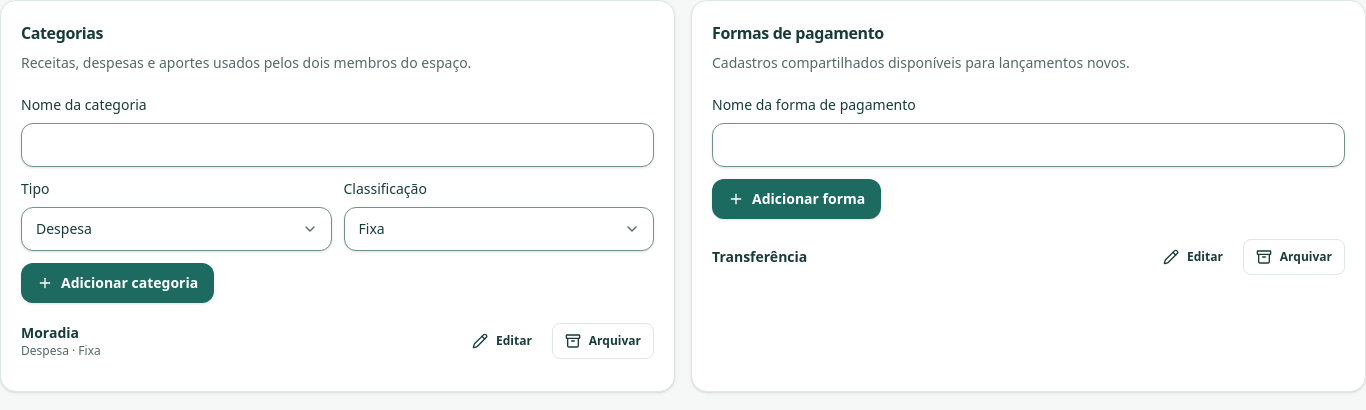
Scenario: shared catalog settings › lets a member create and manage shared payment methods
This screenshot has width=1366, height=410.
In the field labelled "Nome da forma de pagamento": (1028, 145) 712,123 -> 1345,167, type "Pix"
Click the button "Adicionar forma": (797, 199) 712,179 -> 881,219
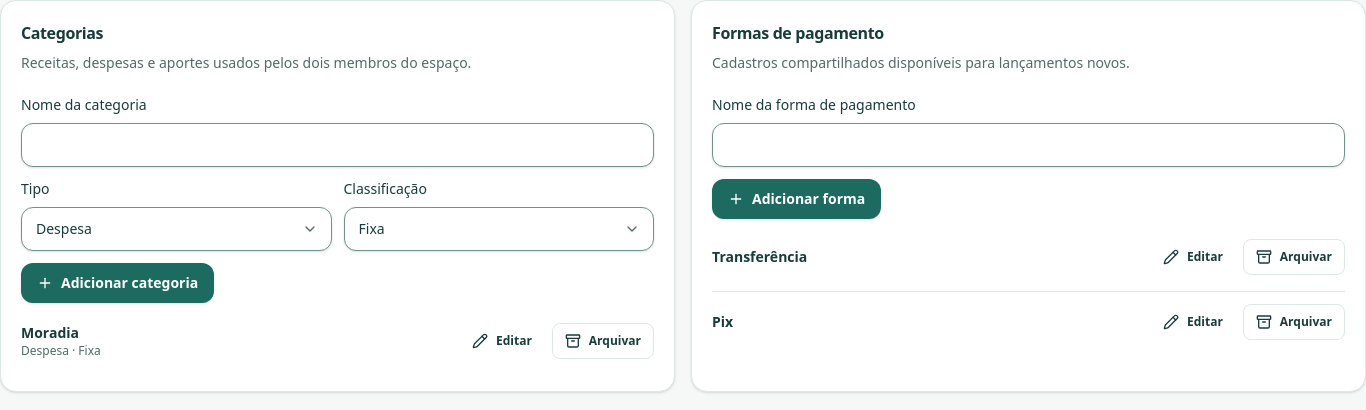
Check: the text "Pix" is shown, box 712,312 -> 733,331
Click the button with aria-label "Editar forma de pagamento Pix": (1193, 322) 1151,304 -> 1235,340
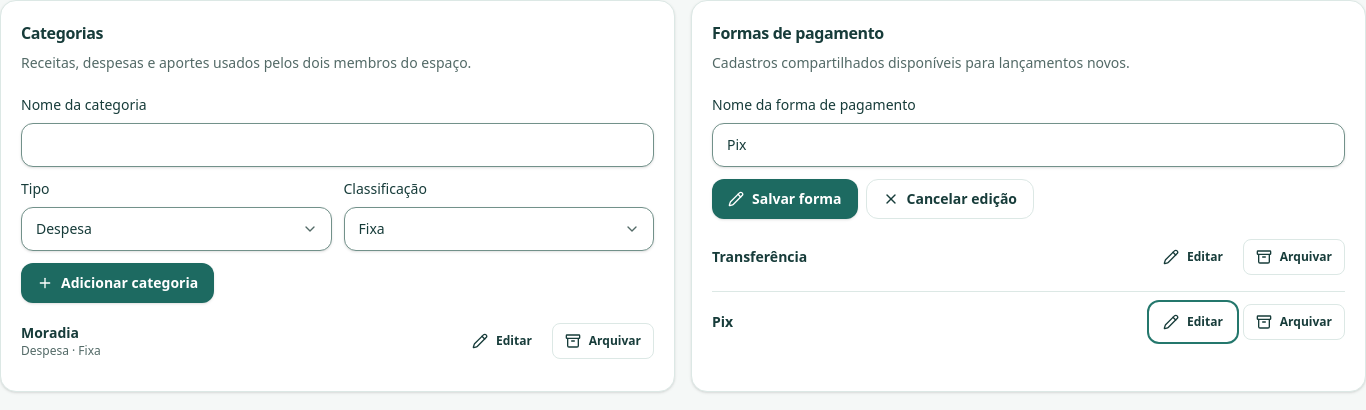
Replace the text in the field labelled "Nome da forma de pagamento" with "Pix instantâneo": (1028, 145) 712,123 -> 1345,167
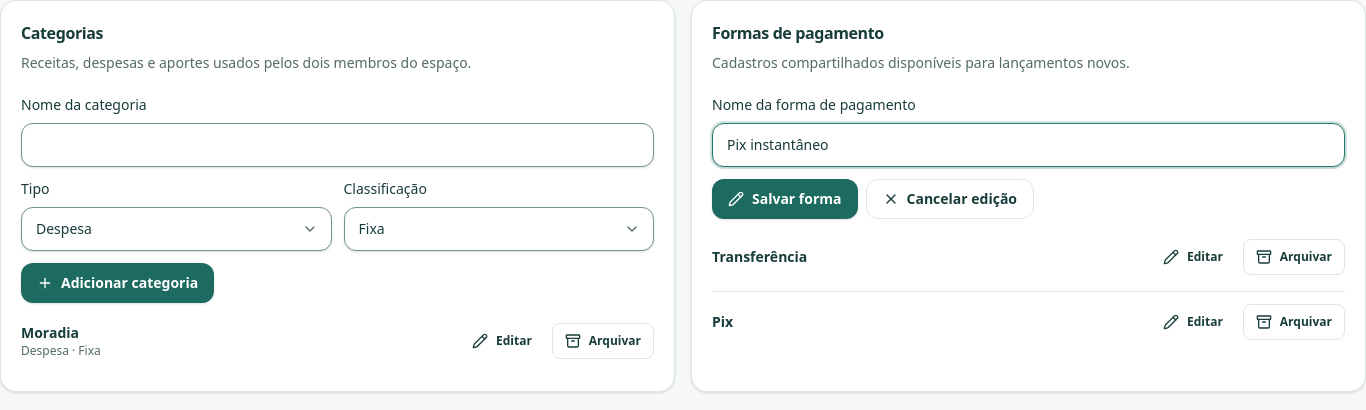
Click the button "Salvar forma": (785, 199) 712,179 -> 858,219
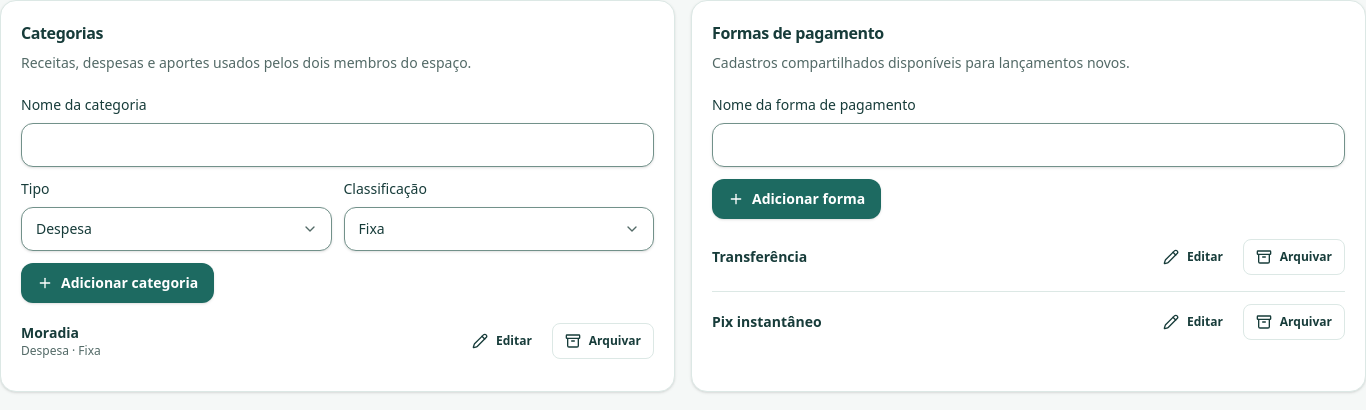
Check: the text "Pix instantâneo" is shown, box 712,312 -> 822,331
Click the button with aria-label "Arquivar forma de pagamento Pix instantâneo": (1294, 322) 1243,304 -> 1345,340
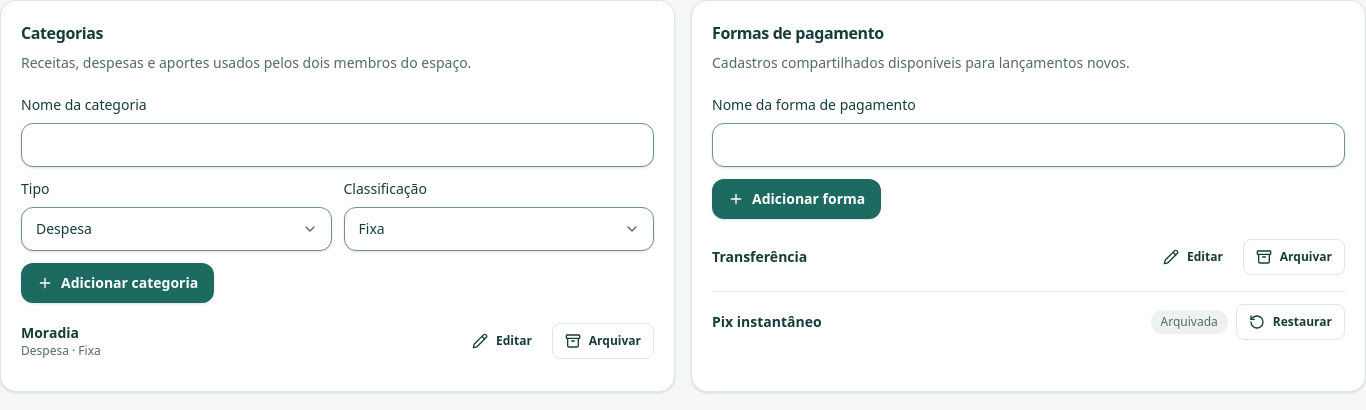
Check: the button with aria-label "Restaurar forma de pagamento Pix instantâneo" is shown
Click the button with aria-label "Restaurar forma de pagamento Pix instantâneo": (1290, 322) 1236,304 -> 1345,340
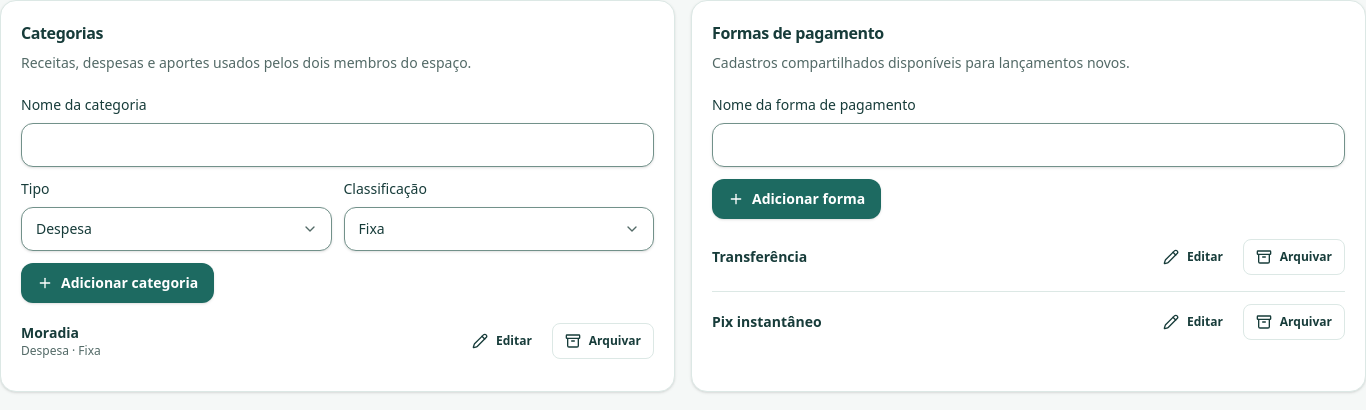
Check: the button with aria-label "Arquivar forma de pagamento Pix instantâneo" is shown, box 1243,304 -> 1345,340
